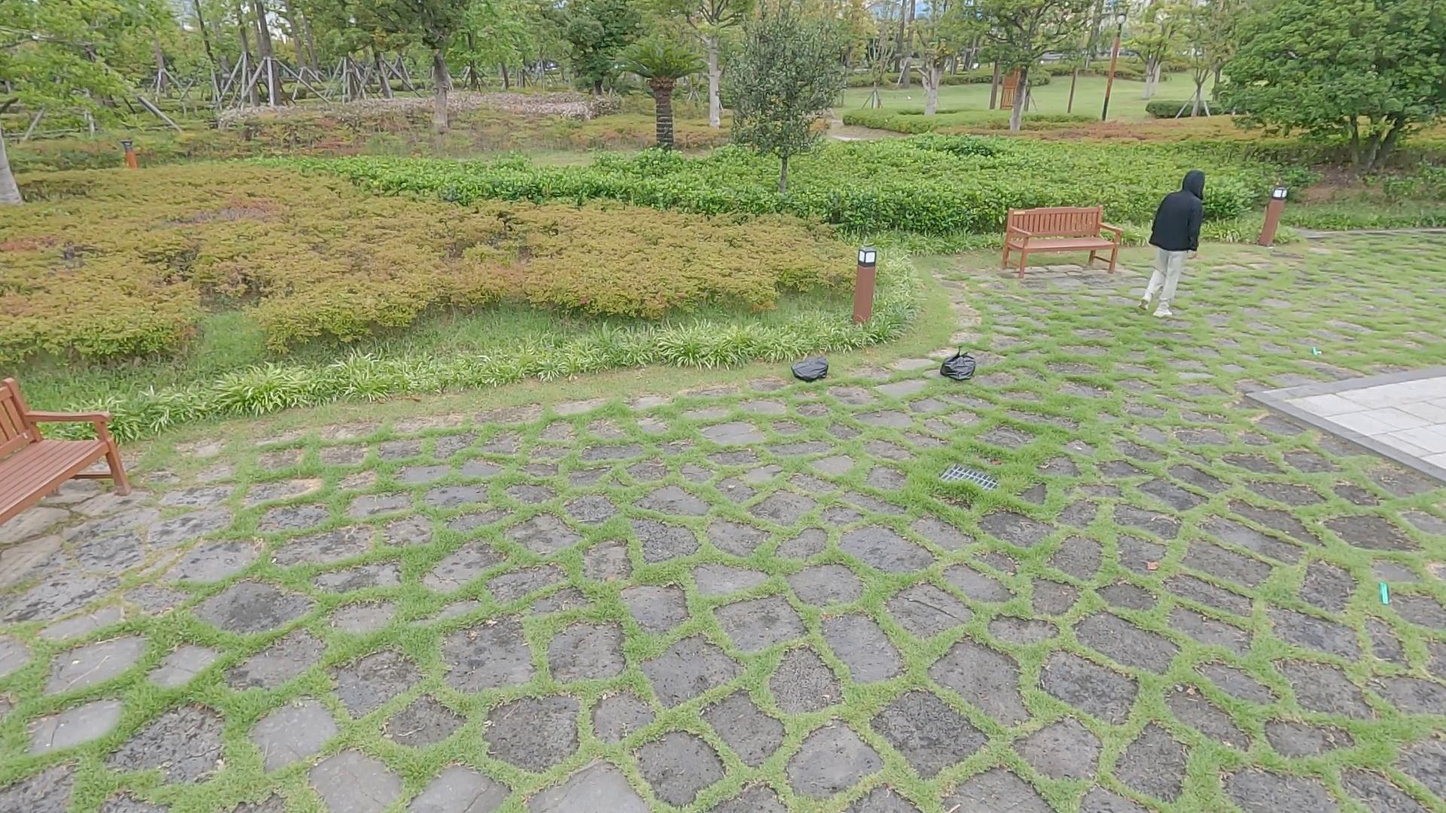person: (1134, 166, 1211, 318)
trash: (937, 341, 977, 384), (786, 352, 834, 384)
